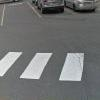Crosswalk: (4, 41, 98, 89)
